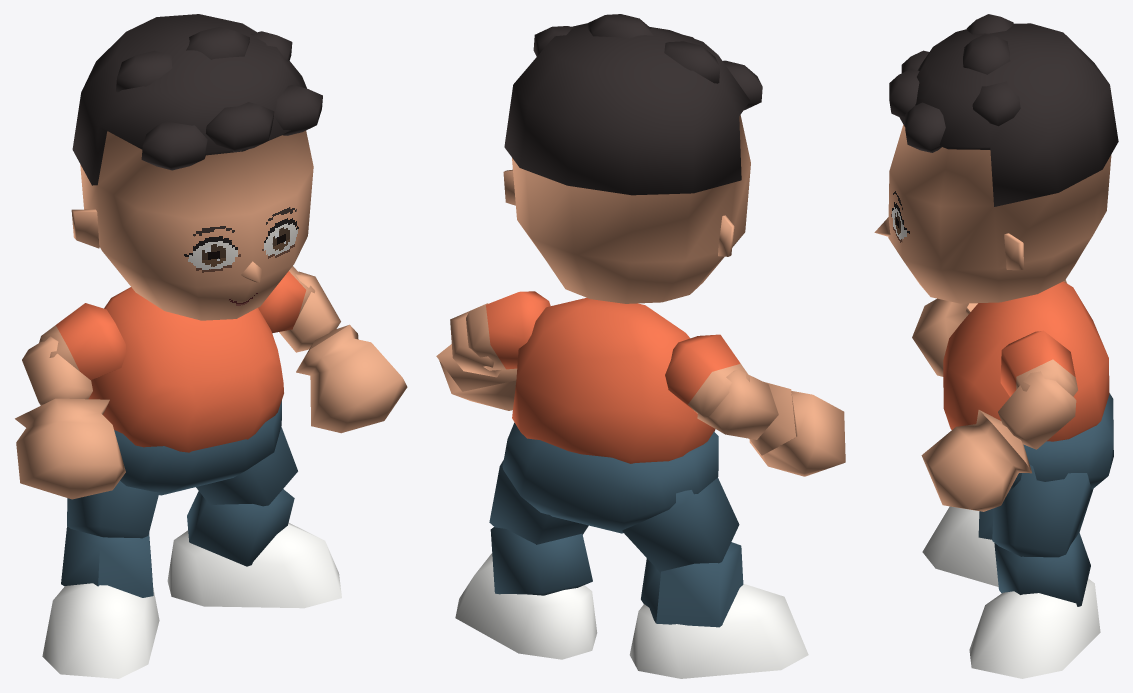
3 views of the same model, side by side, from view 1: azimuth 30°, elevation 25°; view 2: azimuth 150°, elevation 25°; view 3: azimuth 270°, elevation 25° (orthographic). The views are drawn at different scales.
Visible parts, largest first — view 1: Character; view 2: Character; view 3: Character.
Boxes of the visible parts, bbox=[...] form: Character: bbox=[15, 14, 407, 678]; Character: bbox=[436, 14, 845, 678]; Character: bbox=[874, 14, 1118, 678].
Size of the model in its own units: 1.98 by 2.87 by 1.11.
Materials: 9 (2 with a texture image).
